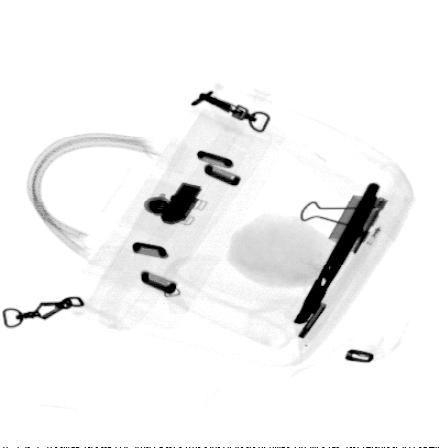Pliers: (292, 181, 382, 325)
